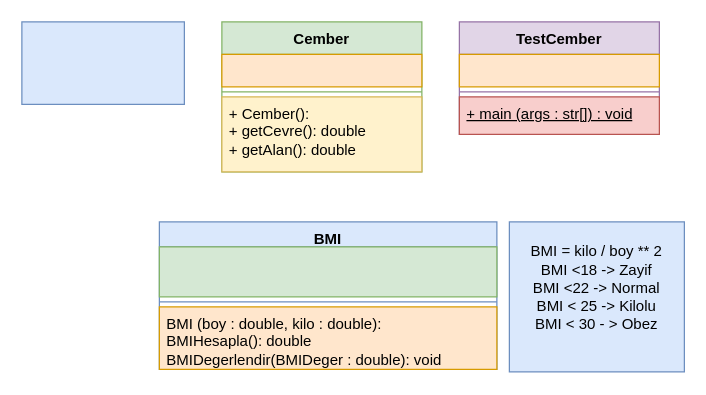
Image size: 706x395. Some labels were removed from this diagram. Here are the shapes that lost their labels. From the top down, the centre of each, then its label:
At point 102,62: "+ public - private ~ ya da (boş) defalut".
At point 321,70: "+ yaricap: double".
At point 327,271: "+ boy: double + kilo : double".
